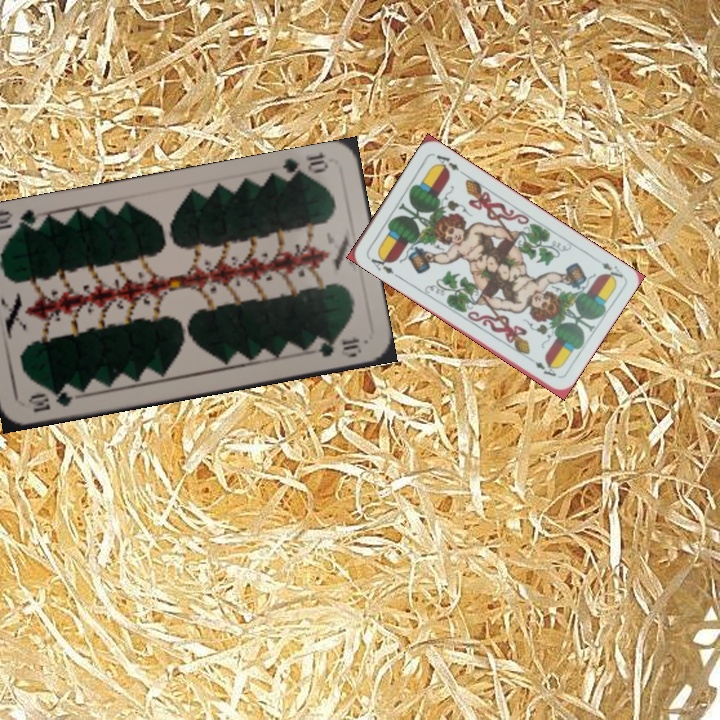EA: (364, 249, 396, 277), (597, 258, 626, 284)
G10: (277, 150, 331, 184), (24, 384, 82, 415)
